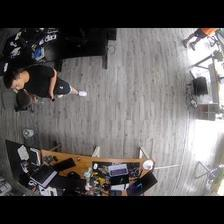normal: (3, 67, 87, 102)
